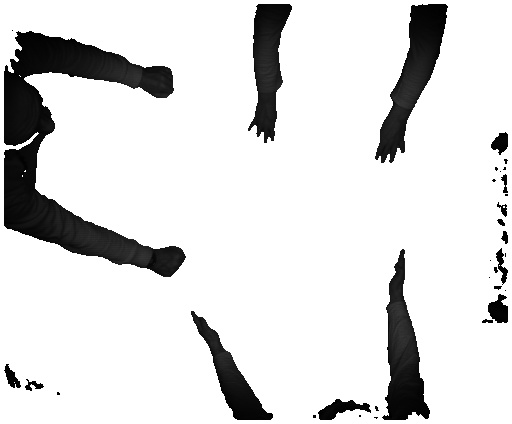fist: (152, 240, 191, 279), (143, 64, 175, 103)
hand: (368, 118, 412, 167), (248, 102, 279, 143)
spine: (184, 304, 223, 353), (384, 248, 407, 297)
